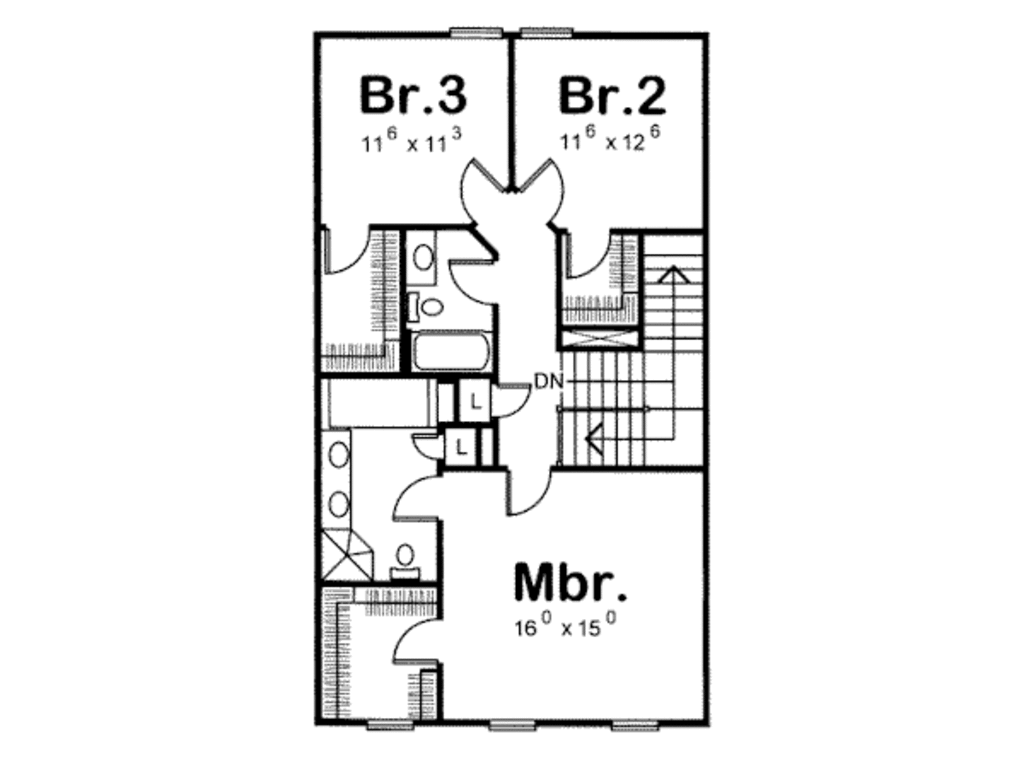door: (457, 152, 509, 222), (386, 614, 442, 670), (502, 465, 556, 522), (520, 156, 567, 221), (323, 220, 374, 279), (387, 475, 445, 525), (491, 372, 535, 420)
large_sink: (384, 540, 426, 582), (400, 289, 449, 325)
small_sink: (320, 427, 359, 527), (401, 228, 438, 289)
stairs: (548, 232, 708, 473)
tub: (411, 328, 501, 373)
window: (516, 20, 575, 43), (606, 716, 664, 739), (448, 23, 507, 45), (482, 715, 542, 734), (367, 714, 417, 736)
